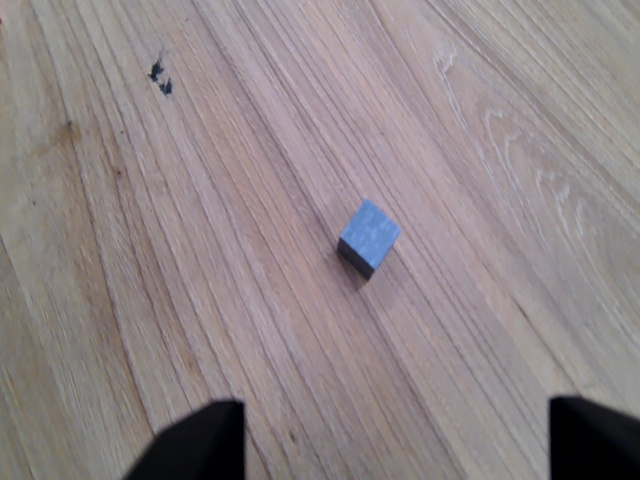stone: (335, 197, 403, 282)
